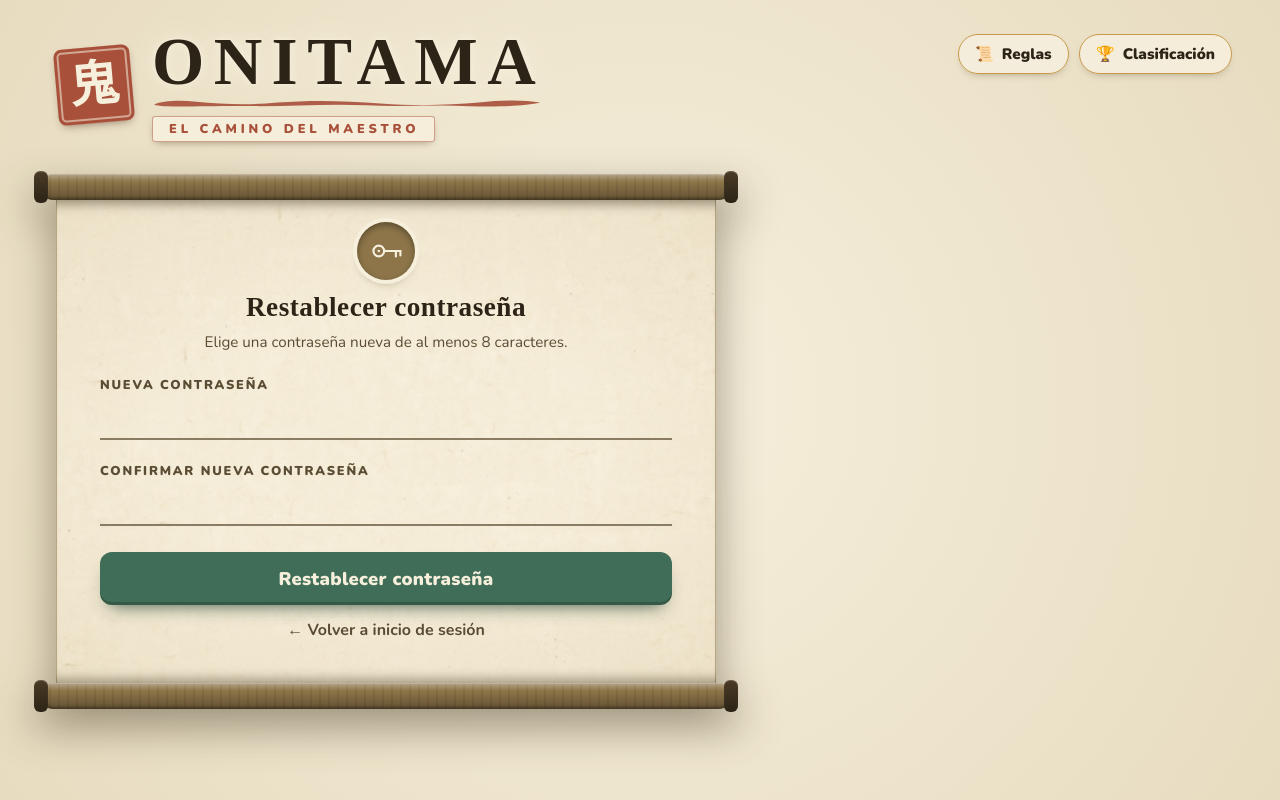
Test case: ResetPasswordPage › muestra mensaje de error si falta el token
Type "password1" into the password field labelled "Nueva contraseña". click: [386, 418]
box: [100, 396, 672, 440]
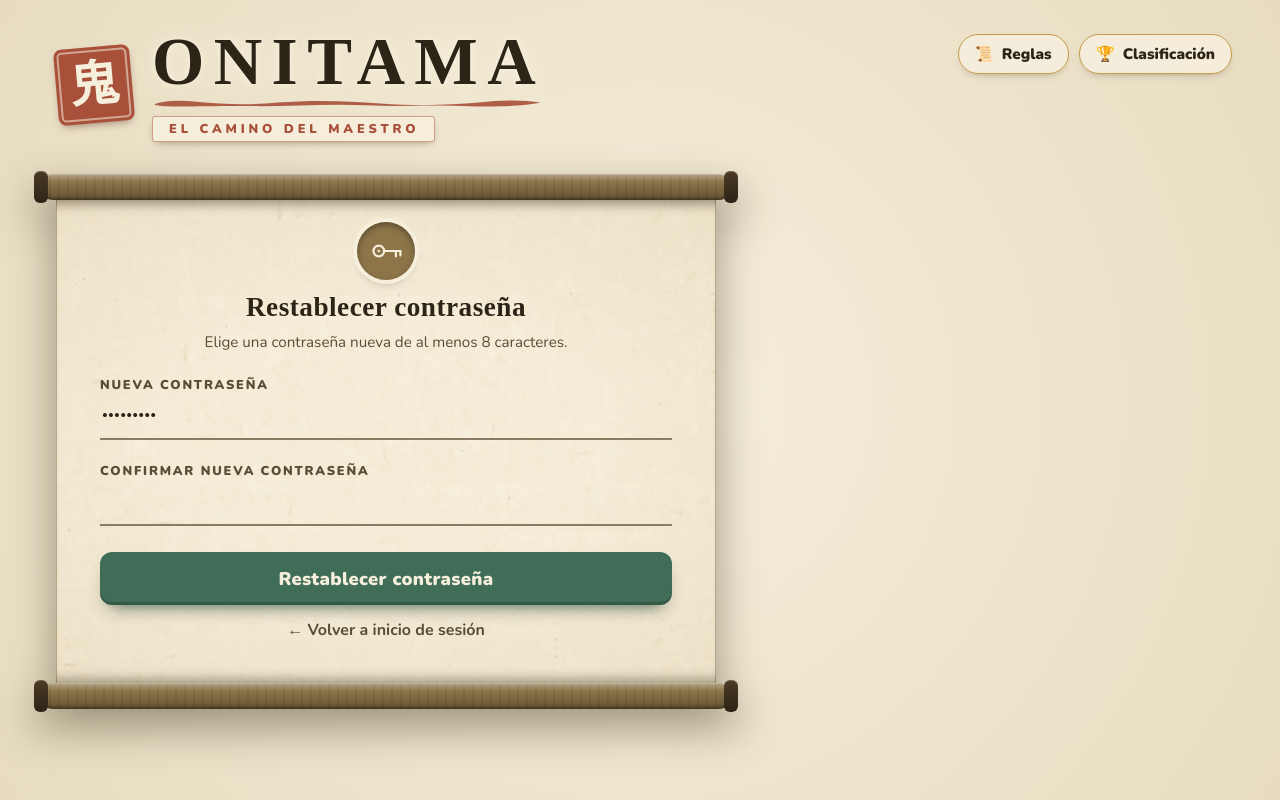
Type "password1" into the password field labelled "Confirmar nueva contraseña". click: [386, 504]
box: [100, 482, 672, 526]
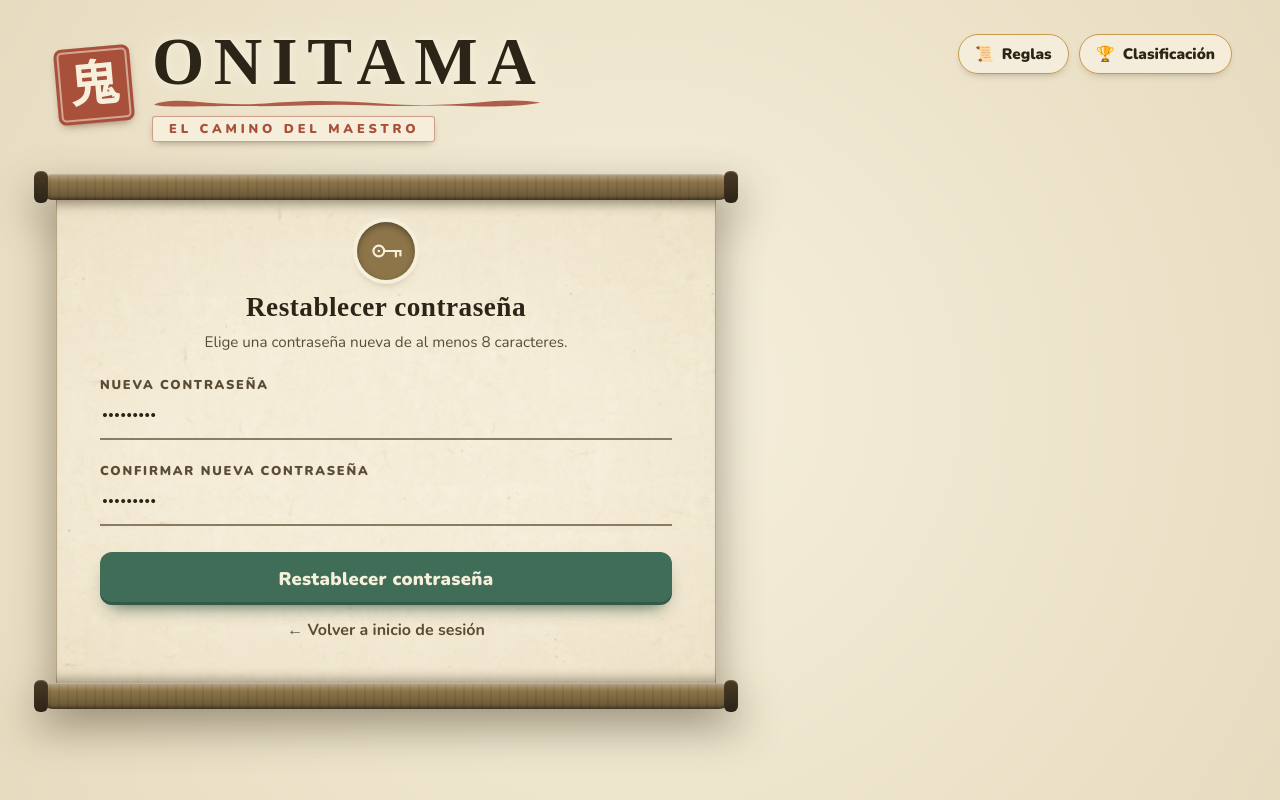
Click the button "Restablecer contraseña". click: [386, 578]
box: [100, 552, 672, 605]
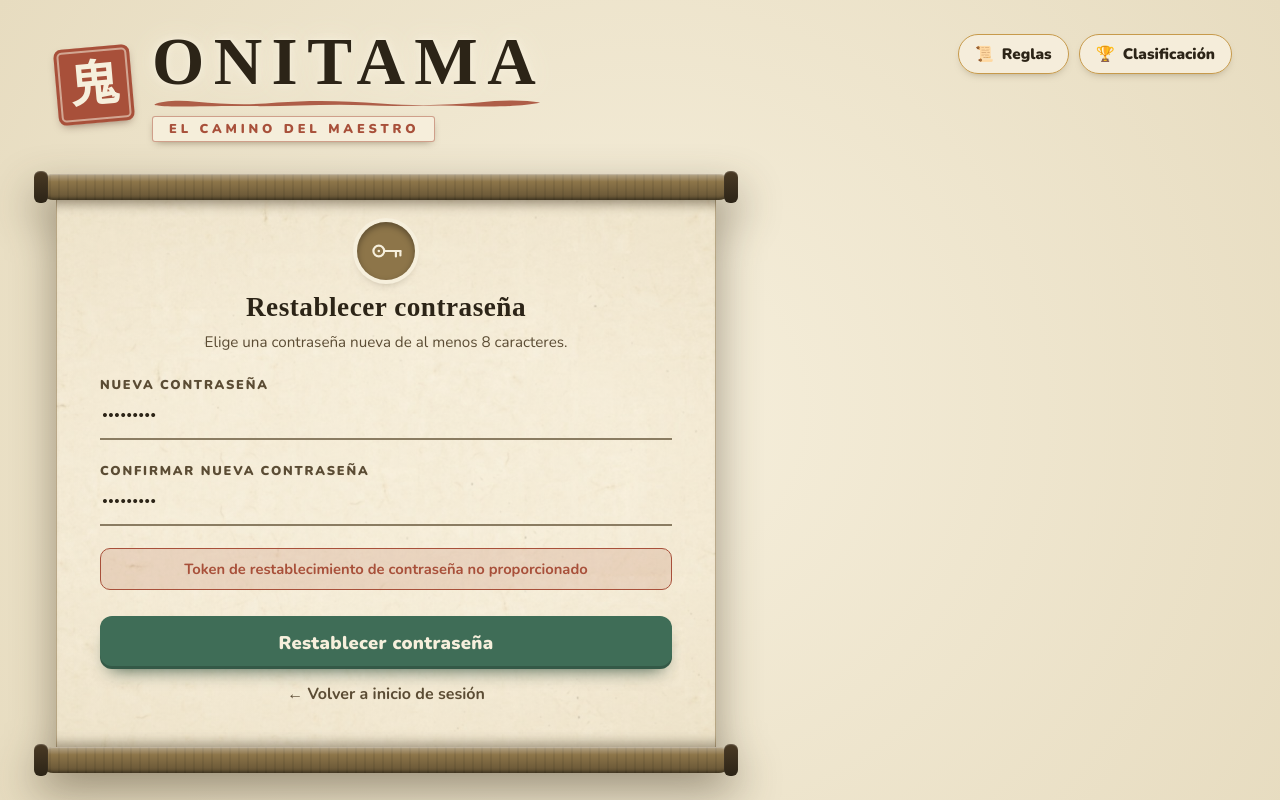
Expected: the text "Token de restablecimiento de contraseña no proporcionado" is shown, [100, 548, 672, 590]
